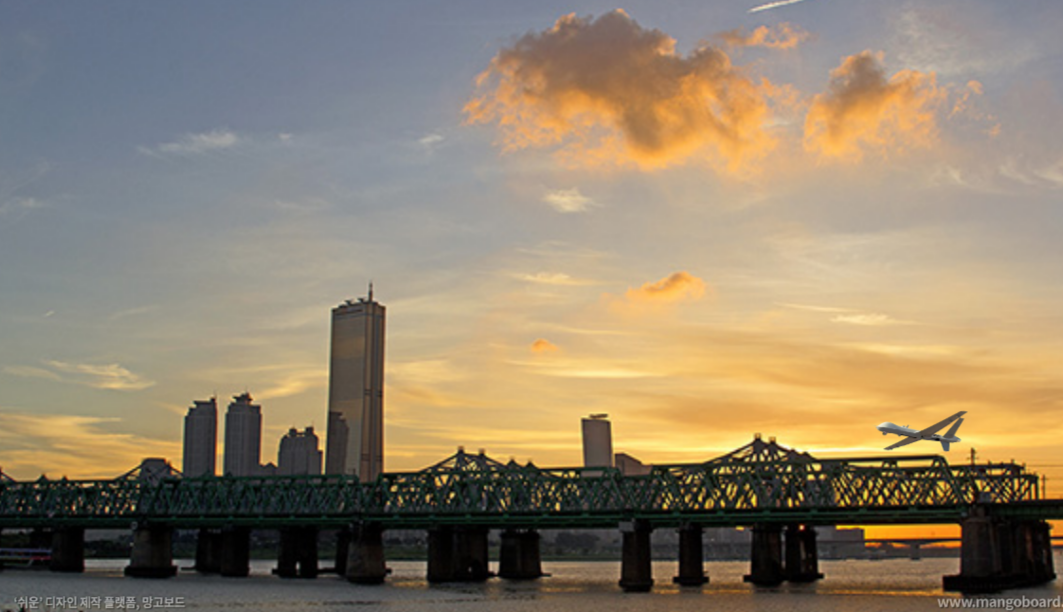military drone: (875, 410, 967, 450)
